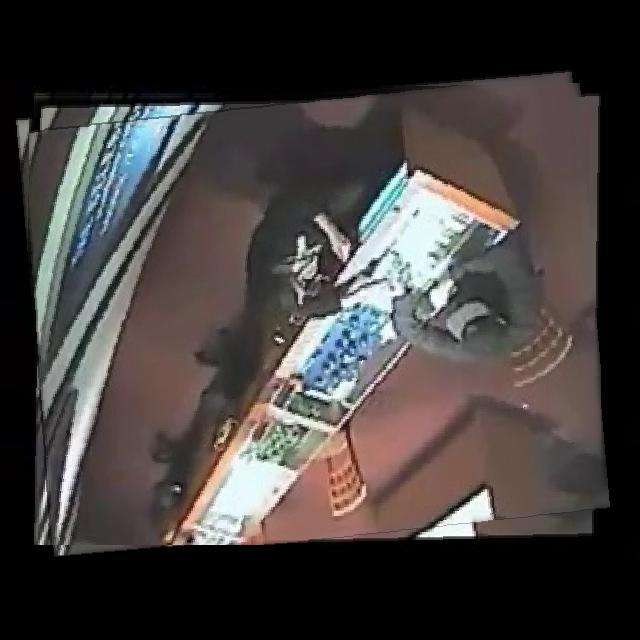Normal: (23, 82, 601, 545)
